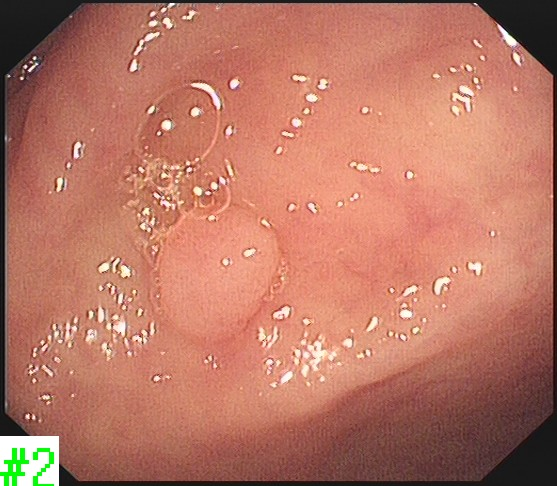adenoma: (148, 197, 288, 348)
